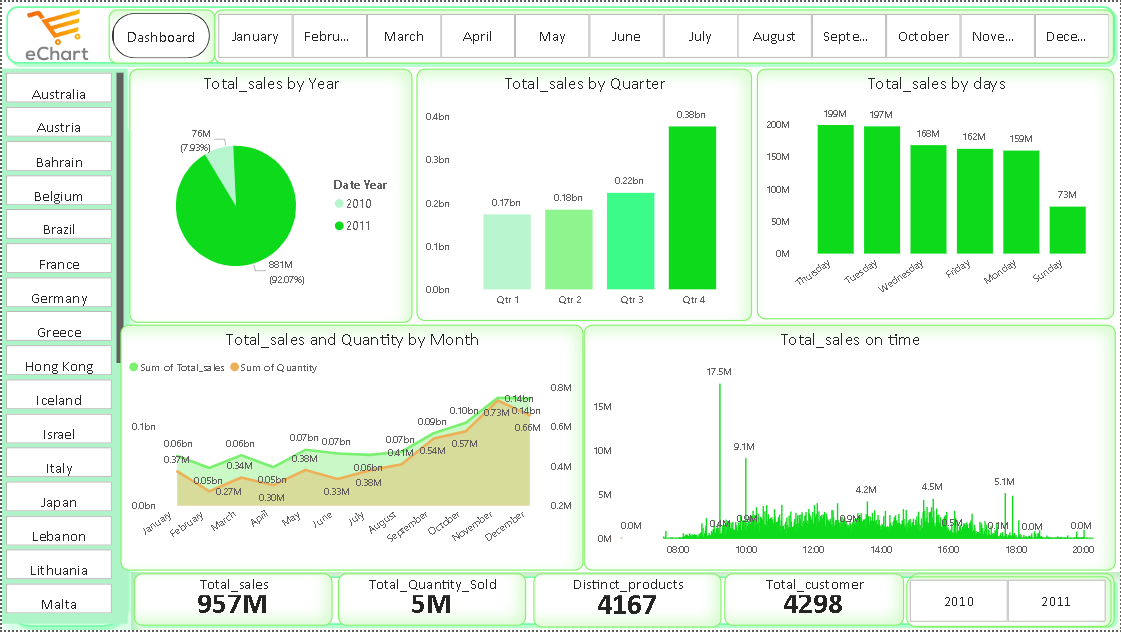

What the dashboard file says about the page in this screenshot:
{"tool":"powerbi","page":{"name":"Date and time analysis","canvas":[1280,720],"ordinal":1},"visuals":[{"type":"shape","box":[147.6,652.5,1132.1,66],"z":0},{"type":"shape","box":[0,0,1279.7,75.7],"z":1000},{"type":"shape","box":[0,118.5,147.6,602],"z":2000},{"type":"ribbonChart","fields":{"Category":["Assignment-1_Data.Date.Variation.Date Hierarchy.Year"]},"box":[1038.9,654.4,235,62.1],"z":3000},{"type":"advancedSlicerVisual","fields":{"Values":["Assignment-1_Data.Date.Variation.Date Hierarchy.Month"]},"box":[242.7,7.8,1031.2,62.1],"z":4000},{"type":"advancedSlicerVisual","fields":{"Values":["Assignment-1_Data.Country"]},"box":[0,76,144,636],"z":5000},{"type":"card","title":"Total_sales","fields":{"Values":["Sum(Assignment-1_Data.Total_sales)"]},"box":[150,654,228,60],"z":6000},{"type":"pieChart","title":"Total_sales by Year","fields":{"Y":["Sum(Assignment-1_Data.Total_sales)"],"Category":["Assignment-1_Data.Date.Variation.Date Hierarchy.Year"]},"box":[145.6,75.7,324.3,291.3],"z":7000},{"type":"card","title":"Total_Quantity_Sold","fields":{"Values":["Sum(Assignment-1_Data.Quantity)"]},"box":[384.5,654.4,215.6,60.2],"z":8000},{"type":"card","title":"Distinct_products","fields":{"Values":["Count(Assignment-1_Data.Itemname)"]},"box":[607.8,654.4,215.6,62.1],"z":9000},{"type":"card","title":"Total_customer","fields":{"Values":["Count(Assignment-1_Data.CustomerID)"]},"box":[827.3,654.4,205.8,60.2],"z":10000},{"type":"clusteredColumnChart","title":"Total_sales by Quarter","fields":{"Y":["Sum(Assignment-1_Data.Total_sales)"],"Category":["Assignment-1_Data.Date.Variation.Date Hierarchy.Quarter"]},"box":[473.8,75.7,384.5,289.3],"z":11000},{"type":"clusteredColumnChart","title":"Total_sales by days","fields":{"Category":["Assignment-1_Data.days"],"Y":["Sum(Assignment-1_Data.Total_sales)"]},"box":[864.2,75.7,409.7,287.4],"z":12000},{"type":"clusteredColumnChart","title":"Total_sales on time","fields":{"Category":["Assignment-1_Data.time Hierarchy.time"],"Y":["Sum(Assignment-1_Data.Total_sales)"]},"box":[666.1,369,609.8,281.6],"z":13000},{"type":"lineChart","title":"Total_sales and Quantity by Month","fields":{"Category":["Assignment-1_Data.Date.Variation.Date Hierarchy.Month"],"Y":["Sum(Assignment-1_Data.Total_sales)"],"Y2":["Sum(Assignment-1_Data.Quantity)"]},"box":[135.9,369,530.1,281.6],"z":14000},{"type":"image","box":[0,0,122.3,81.6],"z":15000},{"type":"pageNavigator","box":[122.3,7.8,122.3,62.1],"z":16000},{"type":"advancedSlicerVisual","fields":{"Values":["Assignment-1_Data.Date.Variation.Date Hierarchy.Year"]},"box":[1035,658.3,235,58.2],"z":17000}]}

Visuals, with their boxes on the page's 1280x720 design canvas (x1, y1, x2, y2). These are canvas units, not pixel positions in the 1121x632 screenshot, which may show the page scaled, cropped or inside an application window:
shape: crop(148, 652, 1280, 718)
shape: crop(0, 0, 1280, 76)
shape: crop(0, 118, 148, 720)
ribbonChart - Assignment-1_Data.Date.Variation.Date Hierarchy.Year: crop(1039, 654, 1274, 716)
advancedSlicerVisual - Assignment-1_Data.Date.Variation.Date Hierarchy.Month: crop(243, 8, 1274, 70)
advancedSlicerVisual - Assignment-1_Data.Country: crop(0, 76, 144, 712)
"Total_sales" card: crop(150, 654, 378, 714)
"Total_sales by Year" pieChart: crop(146, 76, 470, 367)
"Total_Quantity_Sold" card: crop(384, 654, 600, 715)
"Distinct_products" card: crop(608, 654, 823, 716)
"Total_customer" card: crop(827, 654, 1033, 715)
"Total_sales by Quarter" clusteredColumnChart: crop(474, 76, 858, 365)
"Total_sales by days" clusteredColumnChart: crop(864, 76, 1274, 363)
"Total_sales on time" clusteredColumnChart: crop(666, 369, 1276, 651)
"Total_sales and Quantity by Month" lineChart: crop(136, 369, 666, 651)
image: crop(0, 0, 122, 82)
pageNavigator: crop(122, 8, 245, 70)
advancedSlicerVisual - Assignment-1_Data.Date.Variation.Date Hierarchy.Year: crop(1035, 658, 1270, 716)
